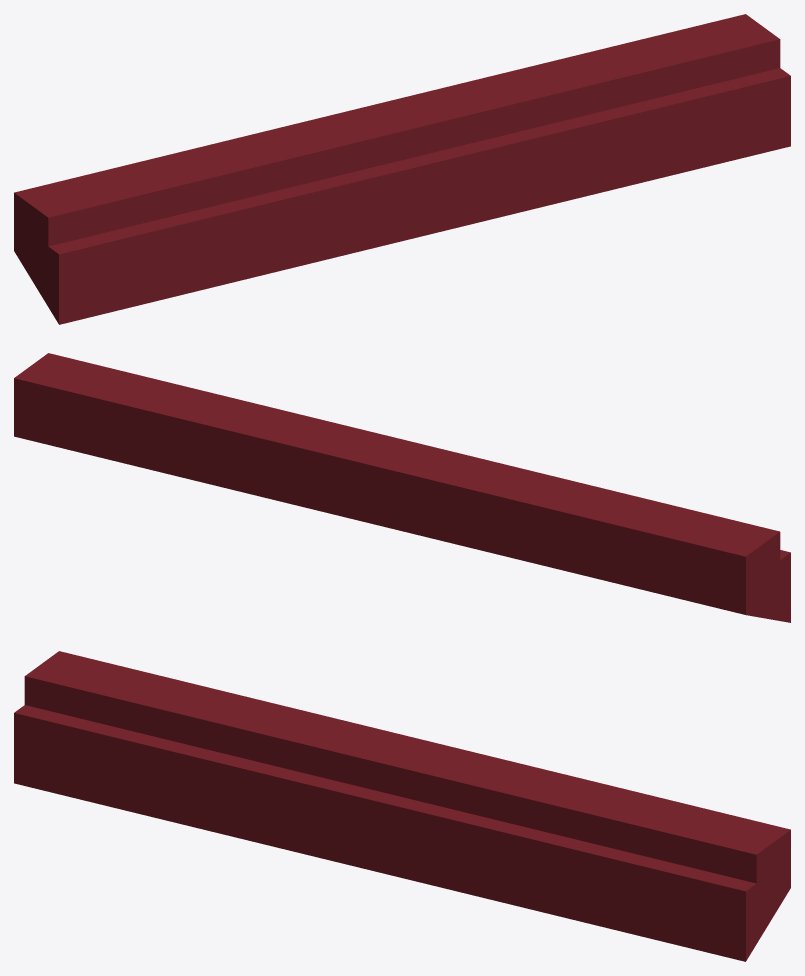
Rendered from BRoofInnerLedge_A.fbx.
The picture shows the model from 3 angles, top to bottom: view 1: azimuth 30°, elevation 25°; view 2: azimuth 150°, elevation 25°; view 3: azimuth 330°, elevation 25°; orthographic projection.
Visible parts, largest first — view 1: BRoofInnerLedge_A.002; view 2: BRoofInnerLedge_A.002; view 3: BRoofInnerLedge_A.002.
Boxes of the visible parts, bbox=[...] form: BRoofInnerLedge_A.002: bbox=[14, 14, 790, 324]; BRoofInnerLedge_A.002: bbox=[14, 353, 790, 622]; BRoofInnerLedge_A.002: bbox=[14, 651, 790, 961].
Size of the model in its own units: 800 by 104 by 85.52.
